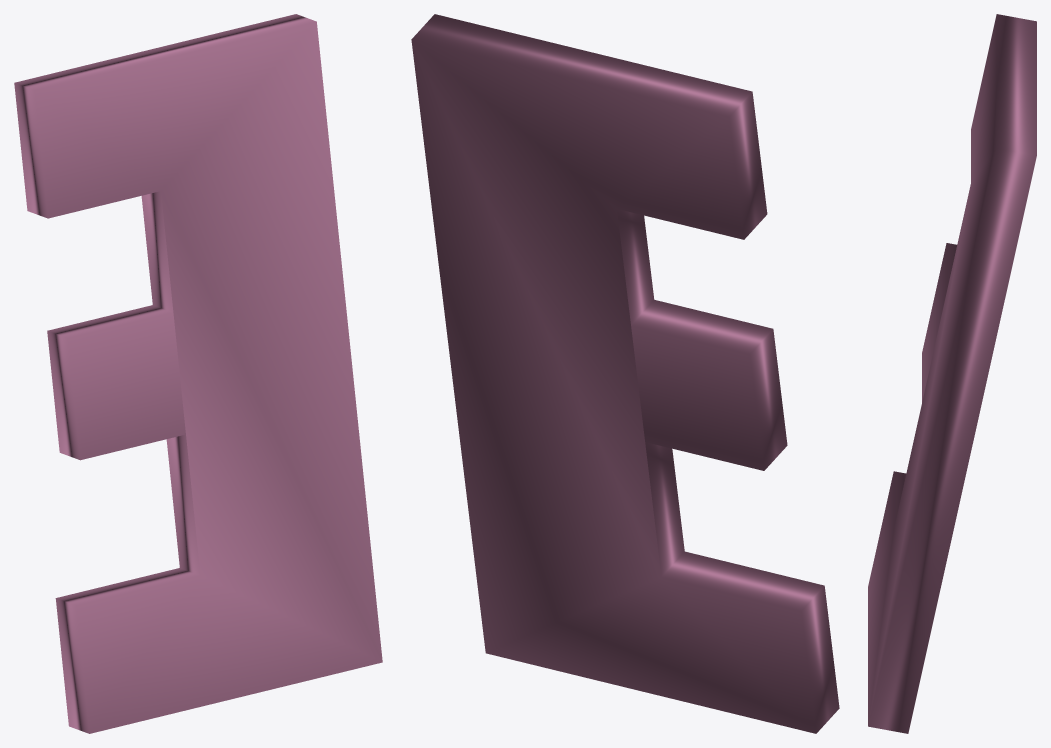
Rendered from original-6.obj.
The picture shows the model from 3 angles, left to right: view 1: azimuth 30°, elevation 25°; view 2: azimuth 150°, elevation 25°; view 3: azimuth 270°, elevation 25°; orthographic projection. The views are drawn at different scales.
Visible parts, largest first — view 1: mesh4/mesh4-geometry#mesh4-geometry; view 2: mesh4/mesh4-geometry#mesh4-geometry; view 3: mesh4/mesh4-geometry#mesh4-geometry.
Boxes of the visible parts, x1,y1,x2,y2 form: mesh4/mesh4-geometry#mesh4-geometry: (14,14,382,733); mesh4/mesh4-geometry#mesh4-geometry: (411,14,839,733); mesh4/mesh4-geometry#mesh4-geometry: (868,14,1036,733).
Size of the model in its own units: 0.0892 by 0.1745 by 0.0456.
